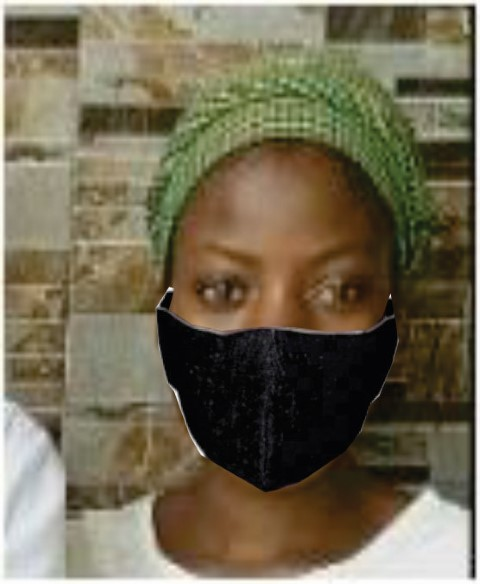with_facemask: (157, 311, 430, 503)
